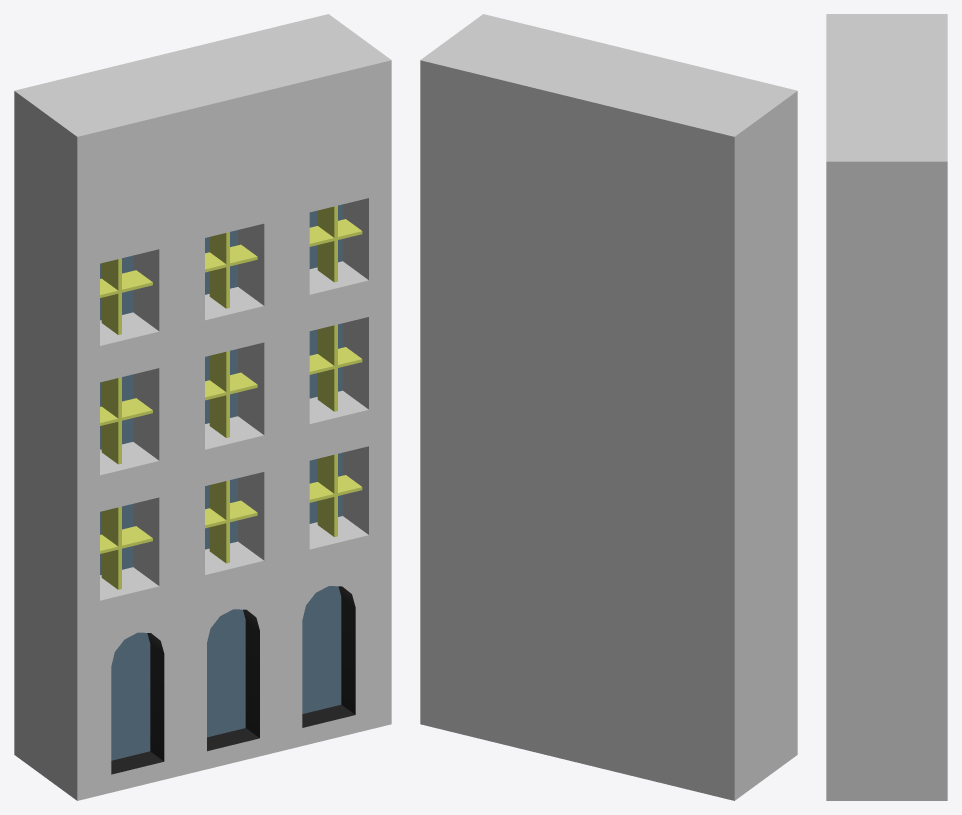
File: F_Building_02.fbx
3 renders of one model, left to right at view 1: azimuth 30°, elevation 25°; view 2: azimuth 150°, elevation 25°; view 3: azimuth 270°, elevation 25°, orthographic. The views are drawn at different scales.
Visible parts, largest first — view 1: F_Building_02; view 2: F_Building_02; view 3: F_Building_02.
Part boxes in pixels (box(x1,y1,x2,y2)): F_Building_02: box(14, 14, 391, 800); F_Building_02: box(420, 14, 797, 800); F_Building_02: box(826, 14, 947, 800).
Size of the model in its own units: 1184 by 2390 by 412.
